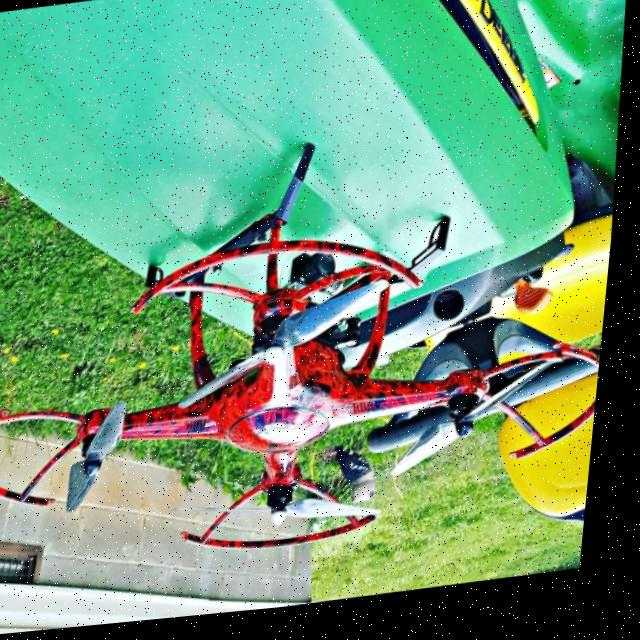drones: (0, 103, 629, 618)
